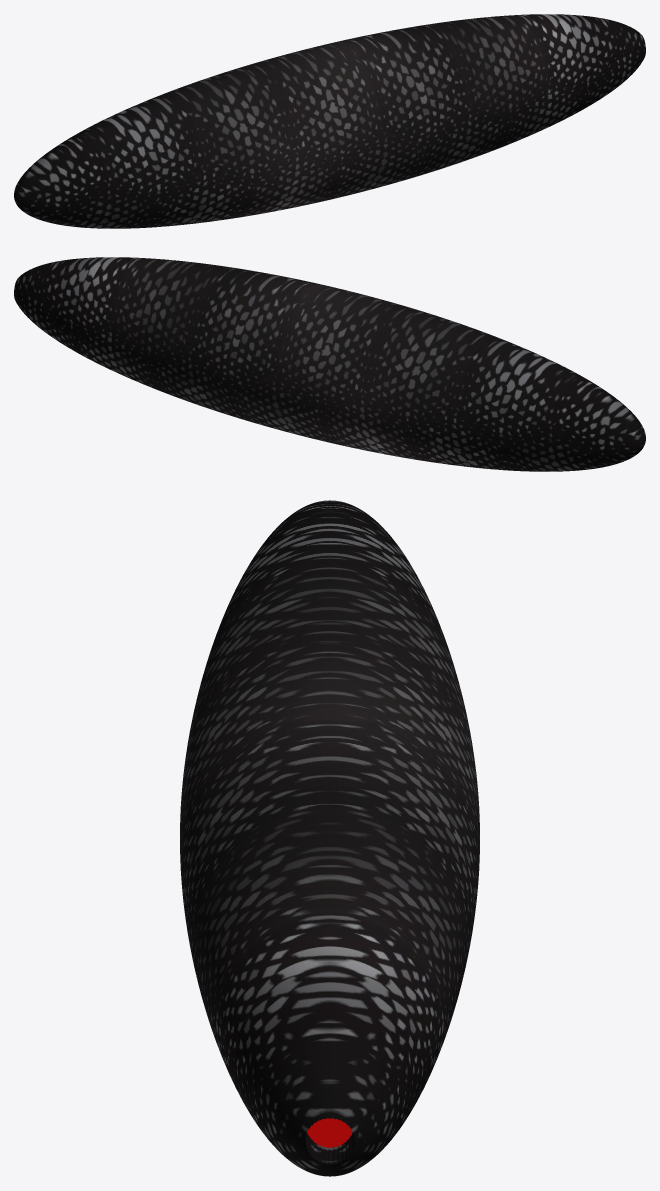
File: worm1.fbx
3 renders of one model, top to bottom at view 1: azimuth 30°, elevation 25°; view 2: azimuth 150°, elevation 25°; view 3: azimuth 270°, elevation 25°, orthographic. The views are drawn at different scales.
Parts seen in each view (by area): view 1: Sphere.001; view 2: Sphere.001; view 3: Sphere.001.
Part boxes in pixels (left/top/right/bottom): Sphere.001: left=14, top=14, right=645, bottom=228; Sphere.001: left=14, top=257, right=645, bottom=471; Sphere.001: left=180, top=500, right=479, bottom=1176.
Size of the model in its own units: 1676 by 363 by 348.
